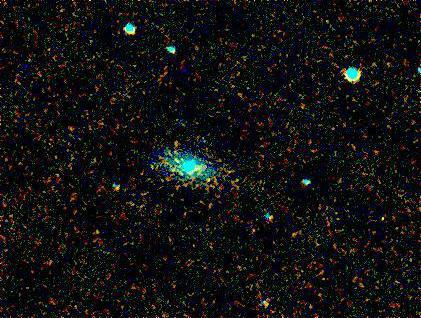star: (84, 213, 114, 243)
